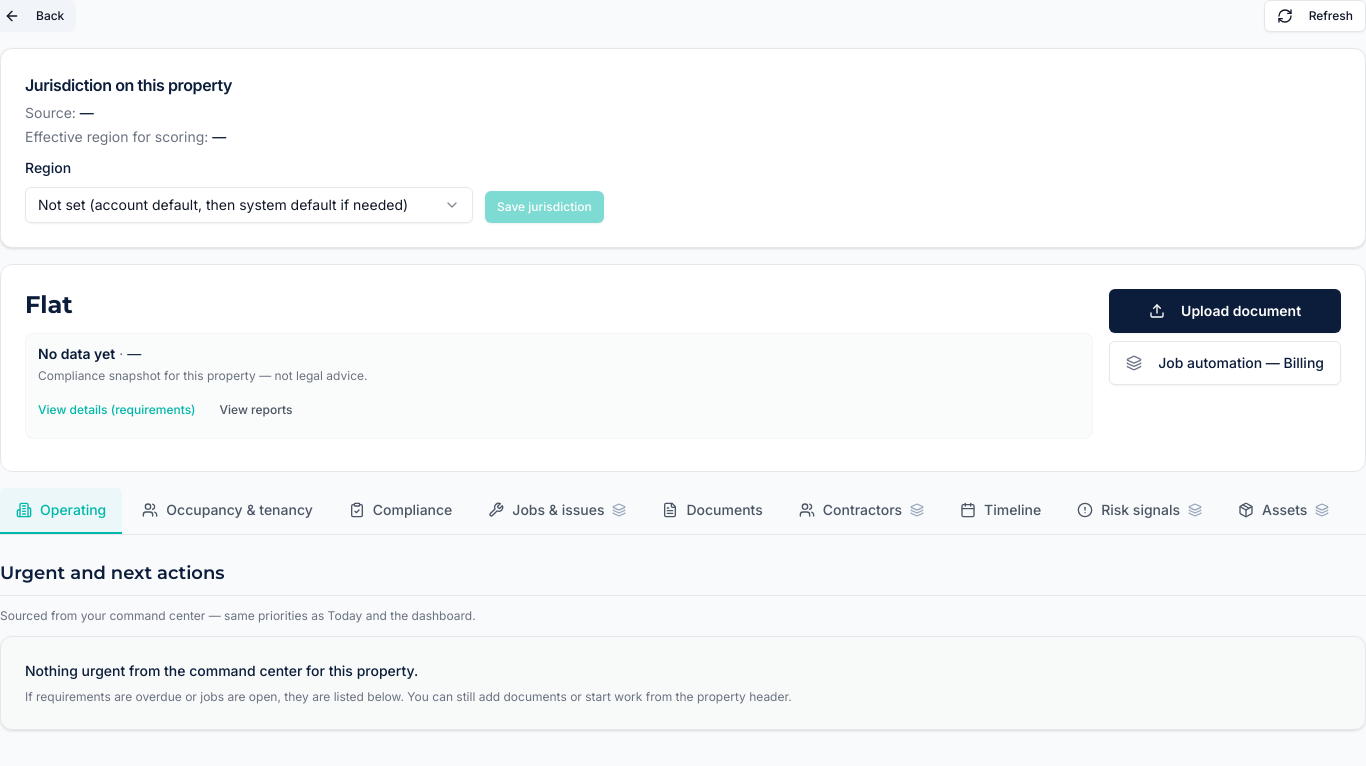
Test: PropertyDetailPage Valid KPI parity › Valid for scoring filter shows COMPLIANT rows (Property B pattern)
Later steps or results of the test are not shown.
Click the button "Compliance".
click(401, 511)  # box [333,488,468,534]
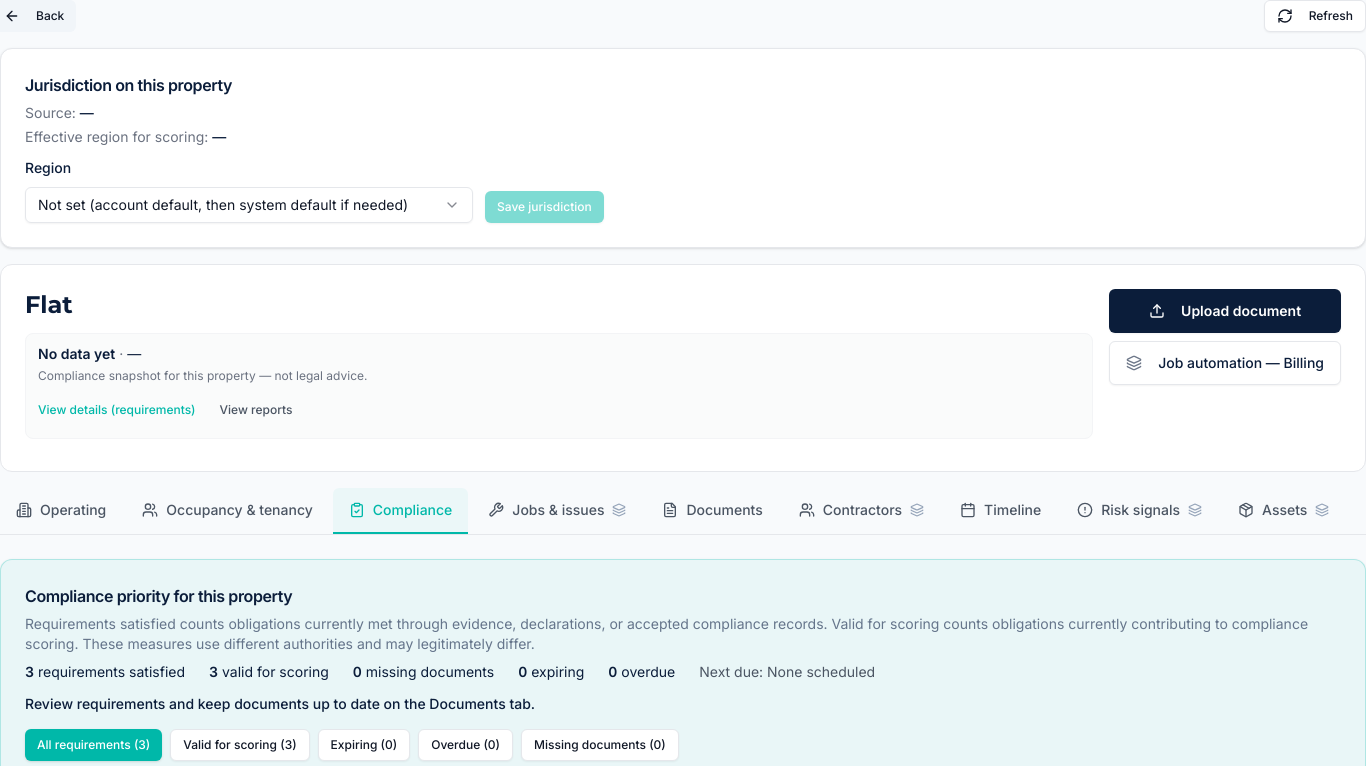
Expected: the button "Valid for scoring (3)" is shown, [170,729,310,761]
